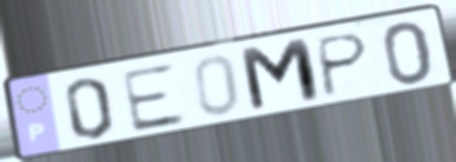0: (62, 75, 119, 143), (380, 19, 436, 88), (190, 52, 243, 121)
E: (117, 60, 190, 136)
M: (235, 35, 326, 117)
P: (315, 30, 373, 101)
